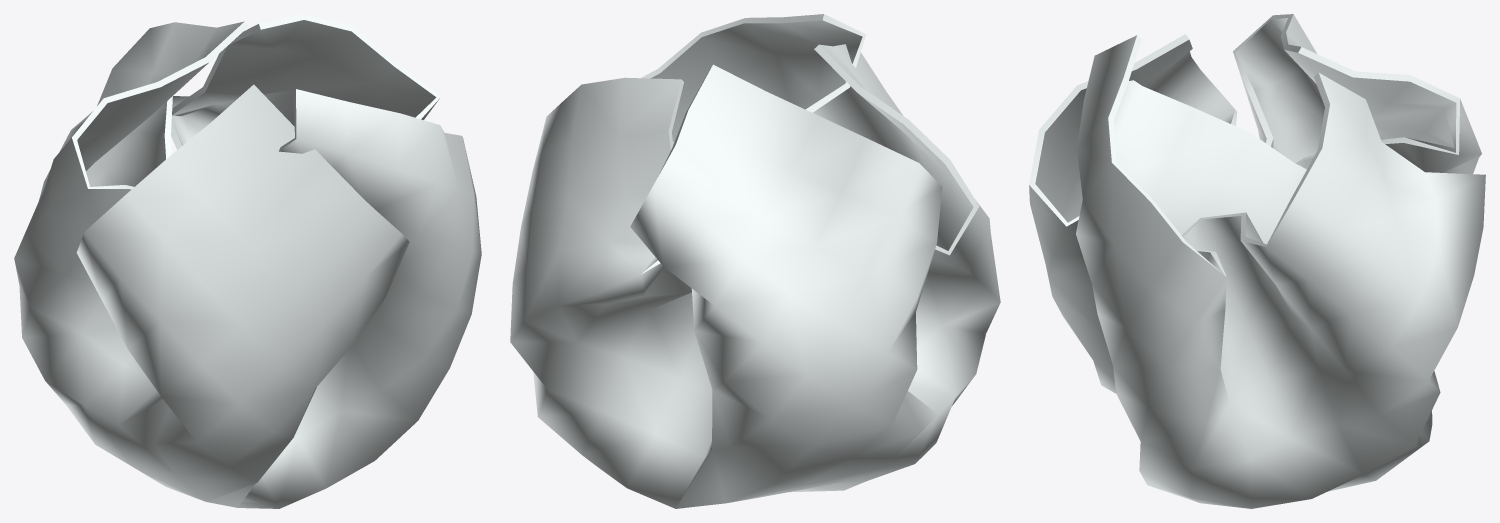
Rendered from PaperBall_Obsticle.fbx.
The picture shows the model from 3 angles, left to right: view 1: azimuth 30°, elevation 25°; view 2: azimuth 150°, elevation 25°; view 3: azimuth 270°, elevation 25°; orthographic projection. The views are drawn at different scales.
Visible parts, largest first — view 1: PaperBall_Obsticle; view 2: PaperBall_Obsticle; view 3: PaperBall_Obsticle.
Boxes of the visible parts, x1,y1,x2,y2 form: PaperBall_Obsticle: (14,14,481,508); PaperBall_Obsticle: (510,14,1000,508); PaperBall_Obsticle: (1029,14,1485,508).
Size of the model in its own units: 3.67 by 3.91 by 3.59.
1 material, 1 textured.
